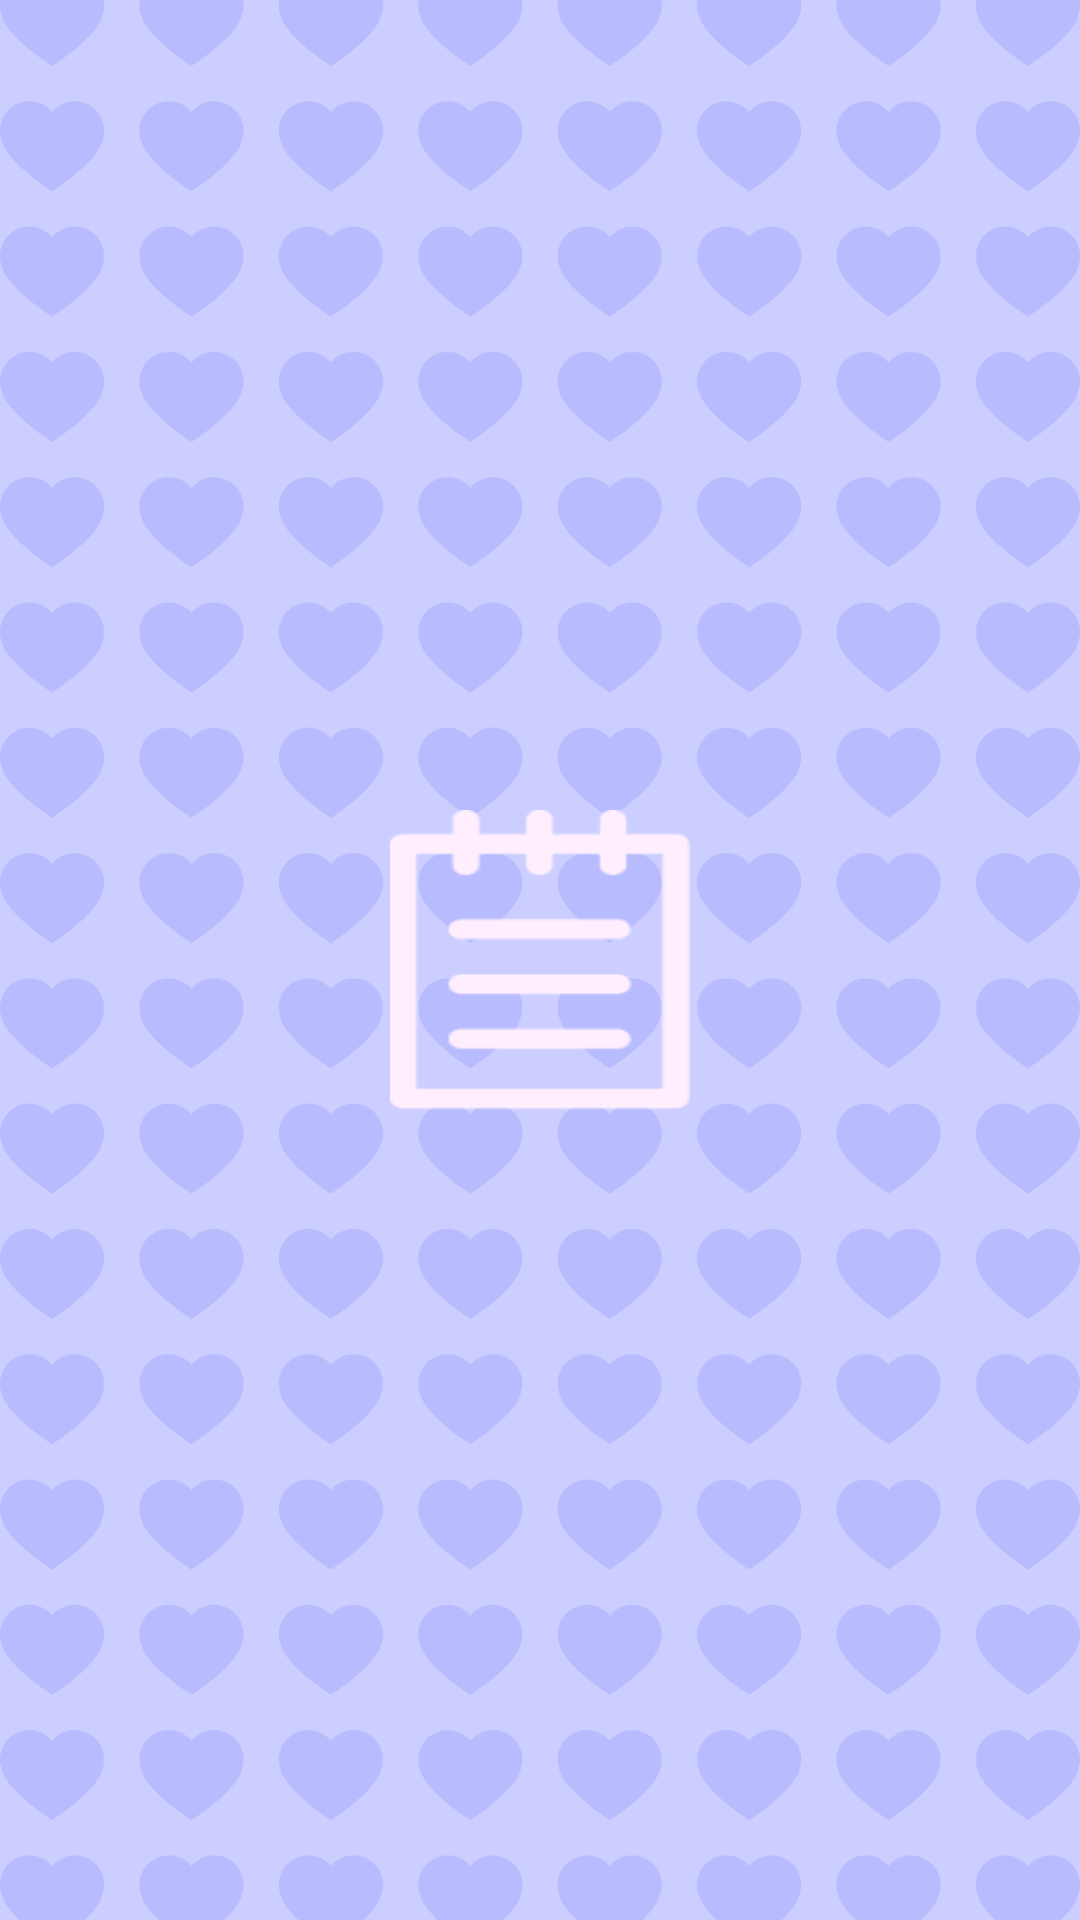

Named icons in this screenshot (1080×1920) and their centers, point (x, y):
notes: point (540, 959)
